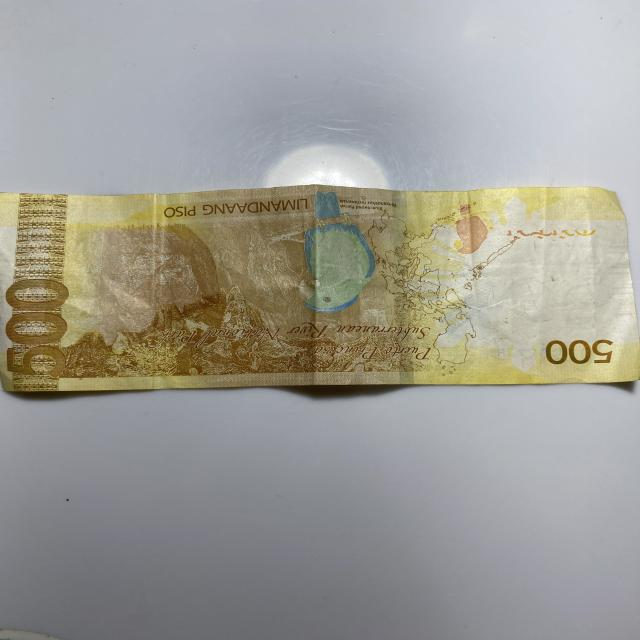500_big_parrot: (301, 190, 380, 310)
500_parrot_watermark: (440, 203, 496, 255)
value_watermark: (577, 253, 606, 286)
